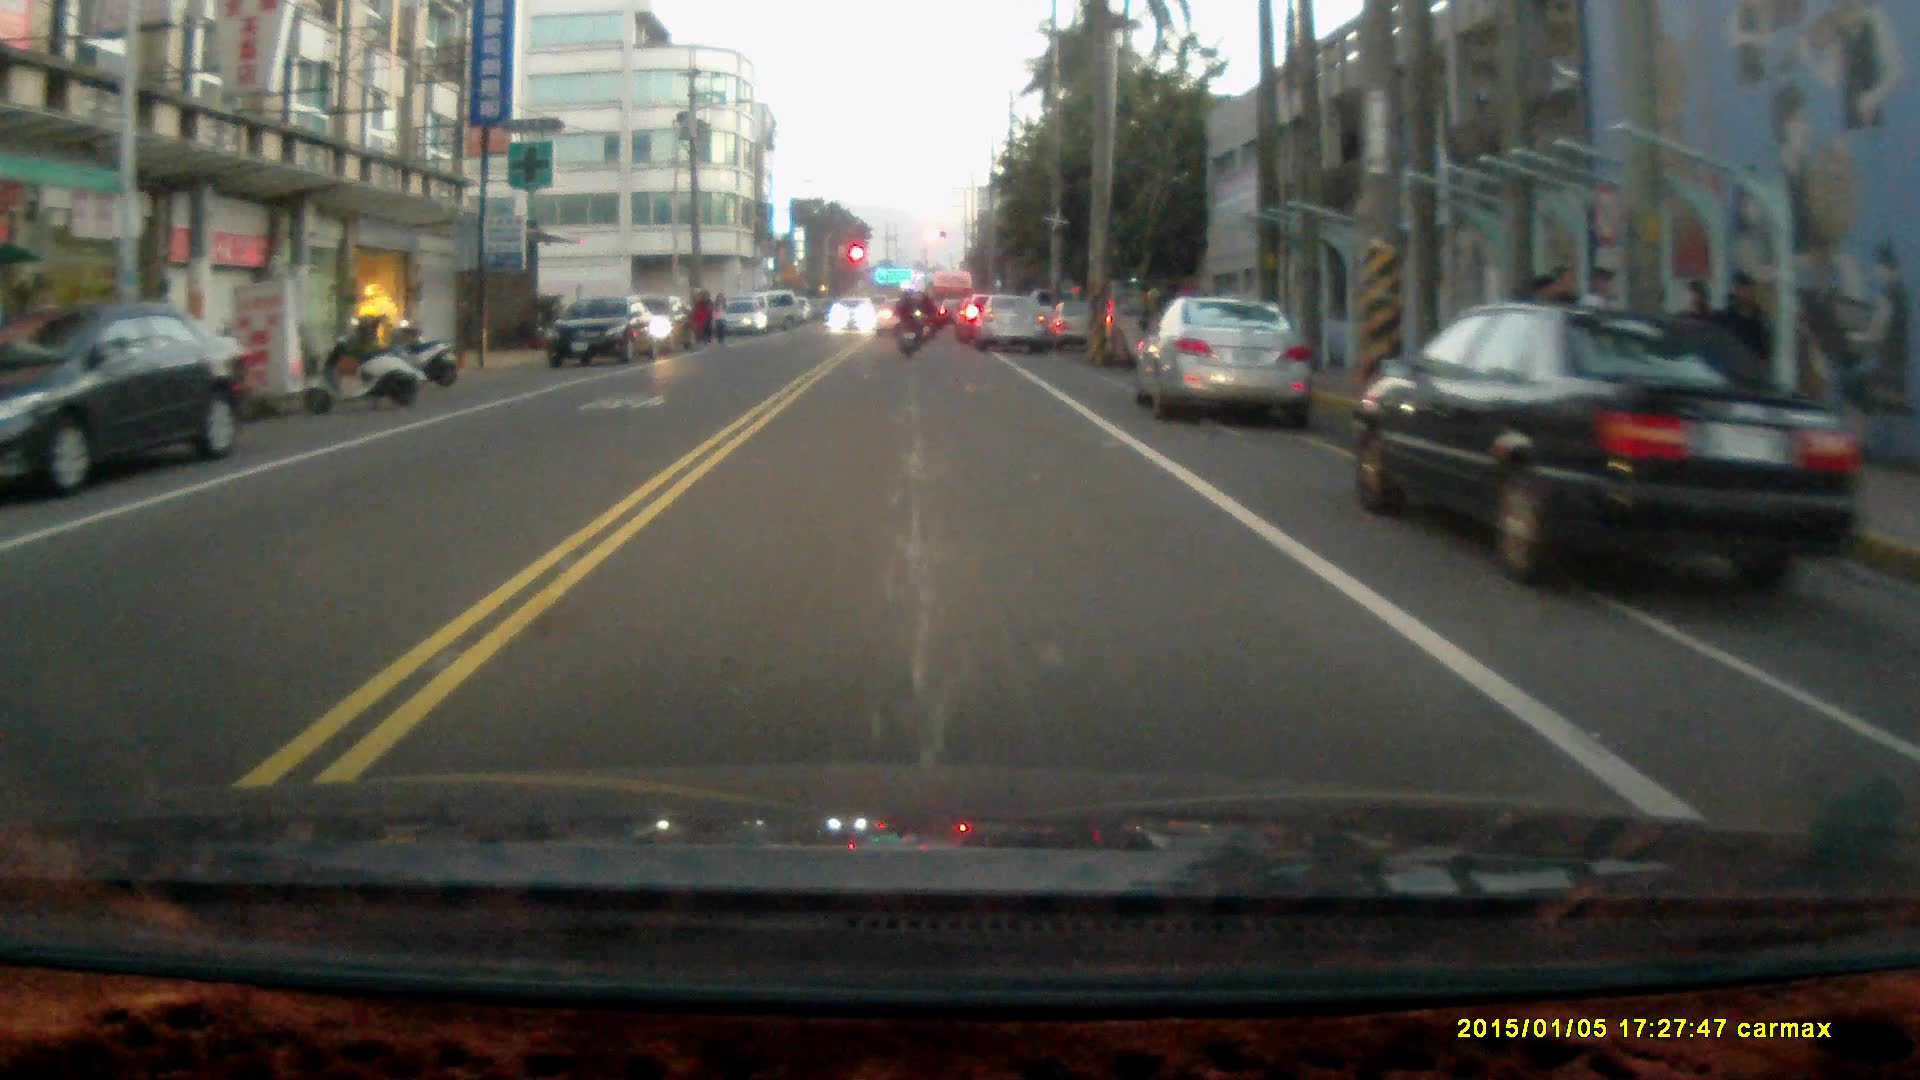pedestrian: (1714, 268, 1778, 414), (692, 288, 714, 349), (707, 289, 727, 349)
rider: (892, 286, 925, 362)
vehicle: (1347, 300, 1866, 608), (1, 305, 254, 491), (1135, 298, 1315, 422), (546, 301, 669, 376), (975, 293, 1050, 351)
